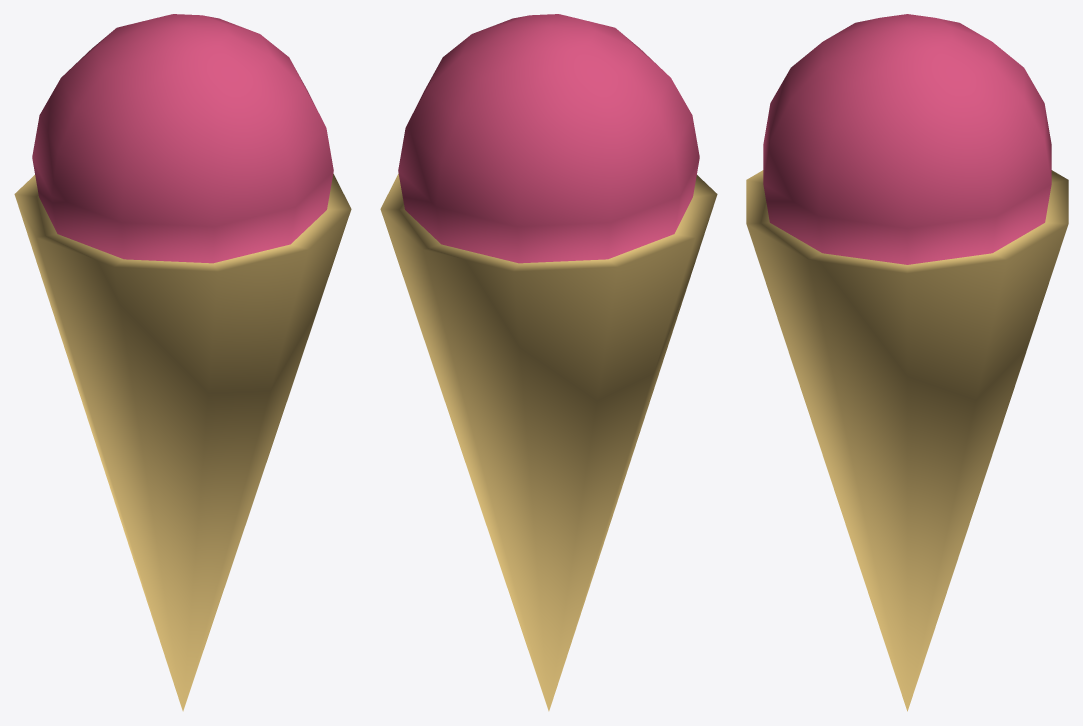
Rendered from Icecream.fbx.
The picture shows the model from 3 angles, left to right: view 1: azimuth 30°, elevation 25°; view 2: azimuth 150°, elevation 25°; view 3: azimuth 270°, elevation 25°; orthographic projection.
Parts seen in each view (by area): view 1: pSphere2; view 2: pSphere2; view 3: pSphere2.
Part boxes in pixels (x1=…): pSphere2: x1=14, y1=14, x2=351, y2=711; pSphere2: x1=380, y1=14, x2=717, y2=711; pSphere2: x1=746, y1=14, x2=1068, y2=711.
Size of the model in its own units: 0.5977 by 1.33 by 0.5684.
